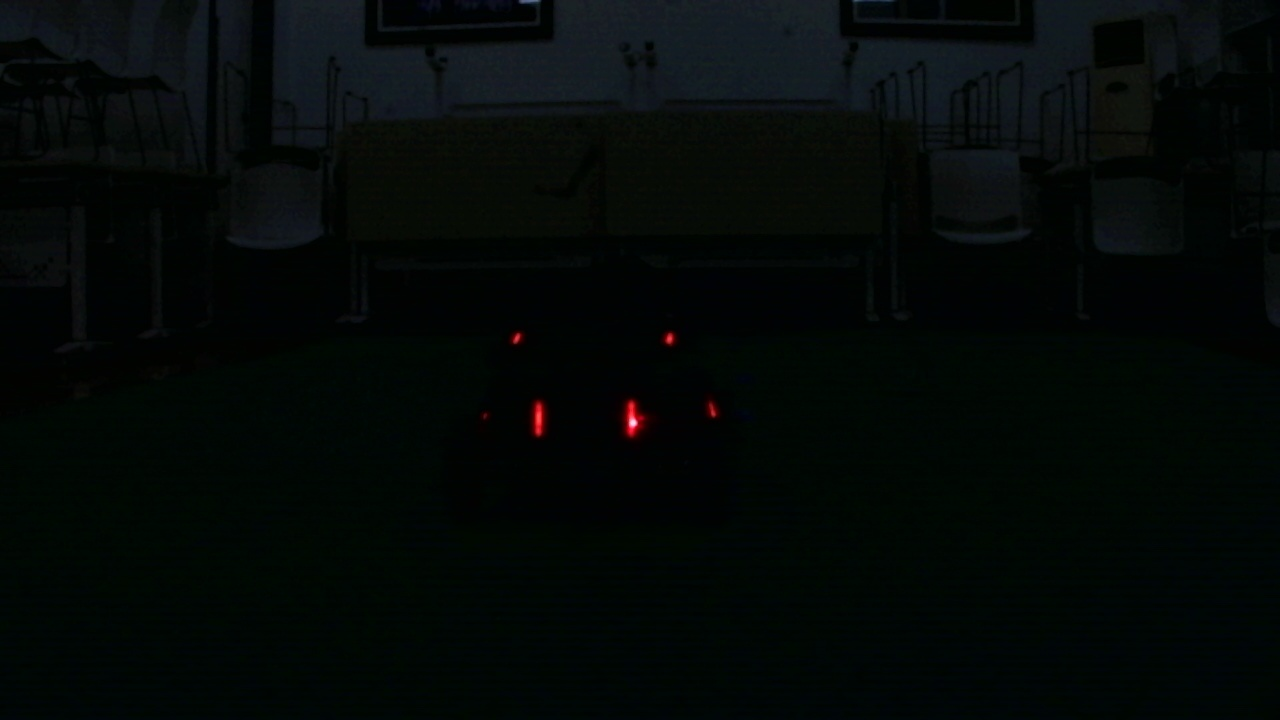lamp: (532, 401, 547, 438), (621, 401, 637, 435)
pair1: (534, 400, 639, 437)
